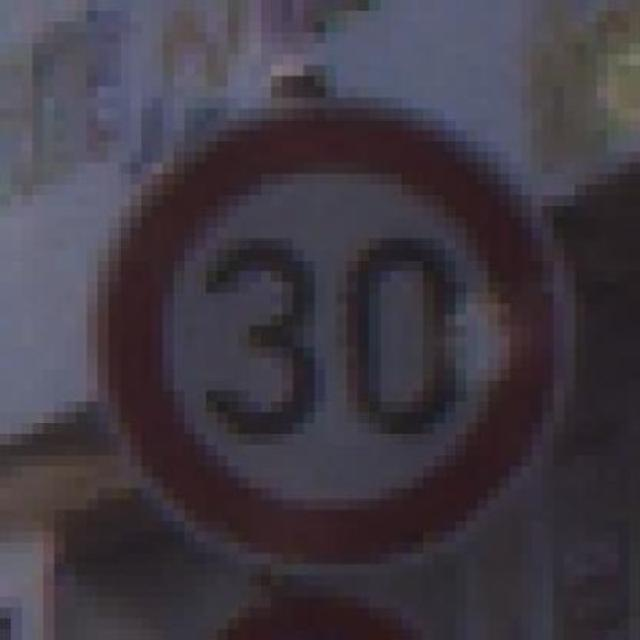Speed Limit 30 KMPh: (75, 76, 576, 553)
